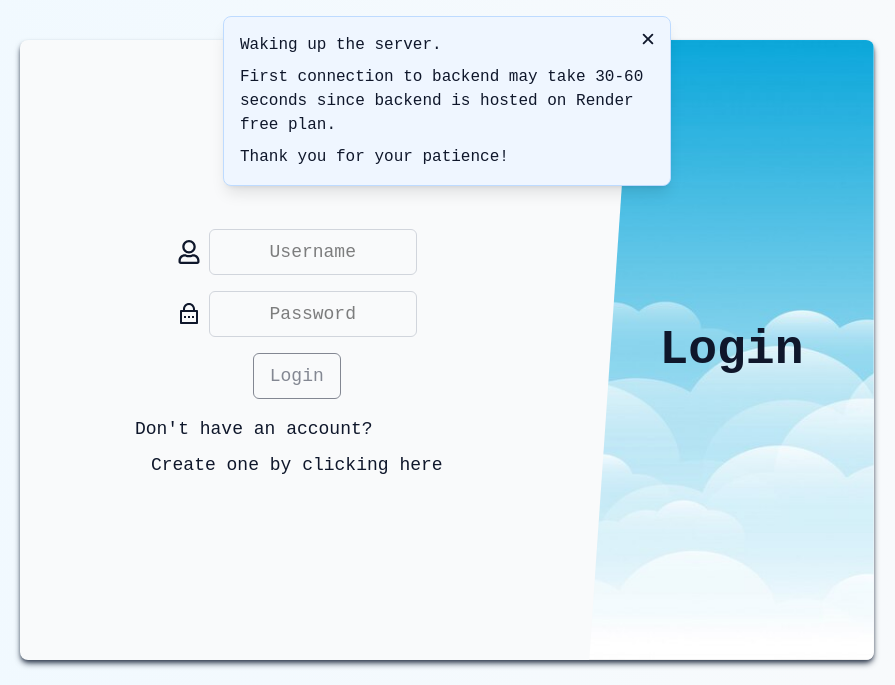
Test: LoginPage › should handle action state changes from LoginForm
Click the button "Create one by clicking here" at (297, 465), box left=135, top=443, right=459, bottom=487
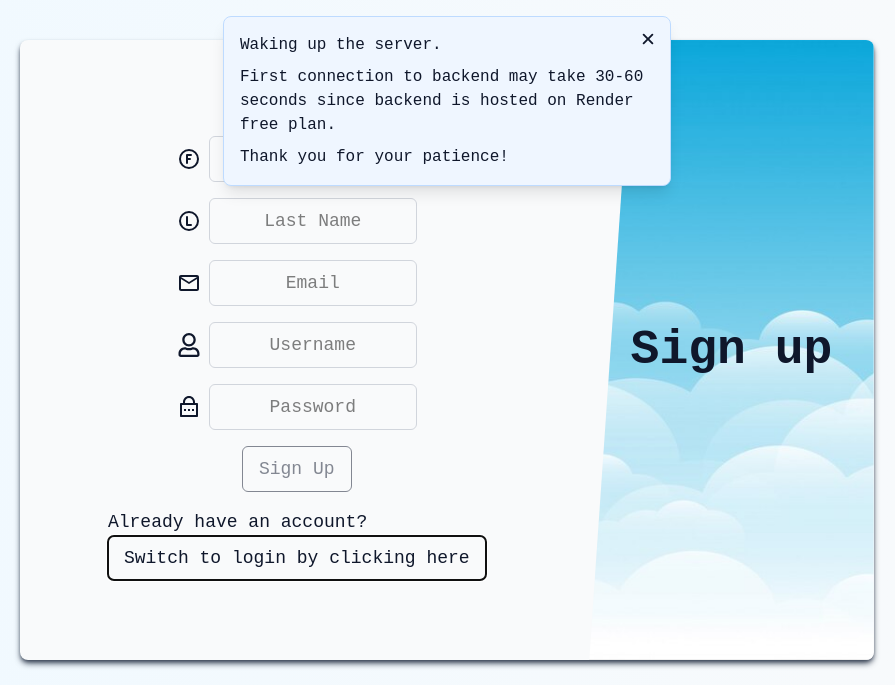
Now the field labelled "Last Name" is shown, box left=209, top=198, right=417, bottom=244
